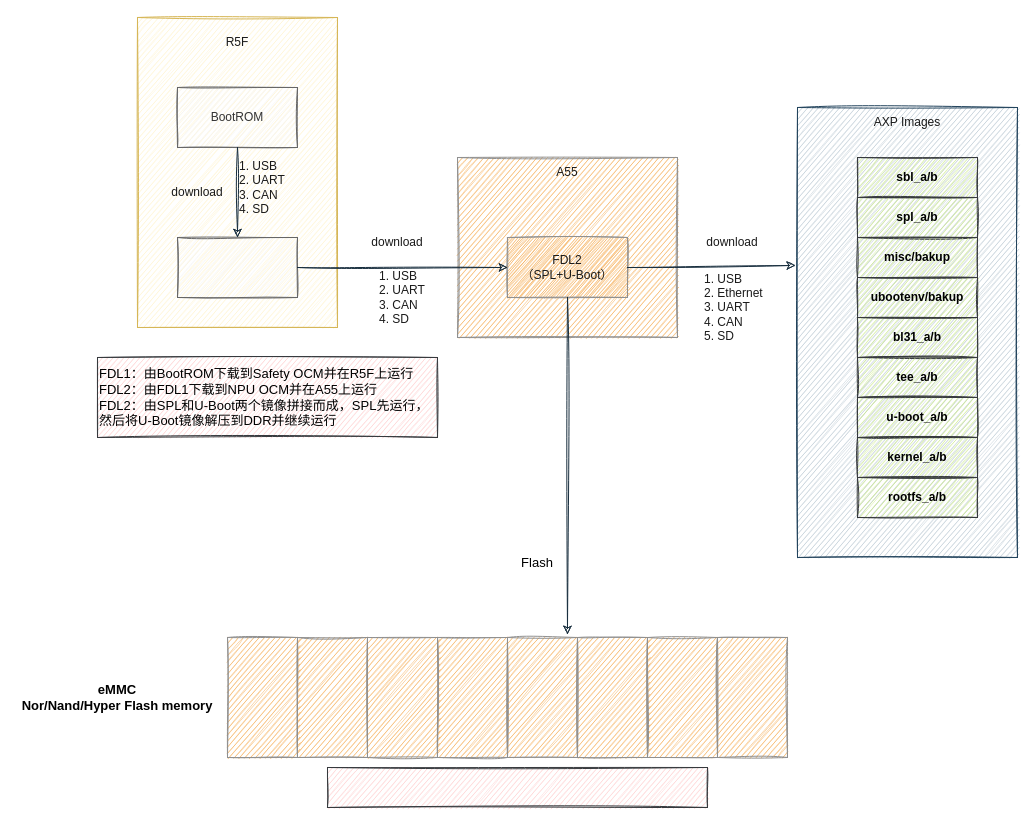
The diagram is 1035 pixels wide and 825 high, and some of its shapes have lost their labels. The centre of each missing label's shape, as x and y in pixels:
"FDL1" belongs at [237,267].
"FDL2中U-Boot负责完成整个镜像包的下载并烧写到对应的分区里" belongs at [517,787].
